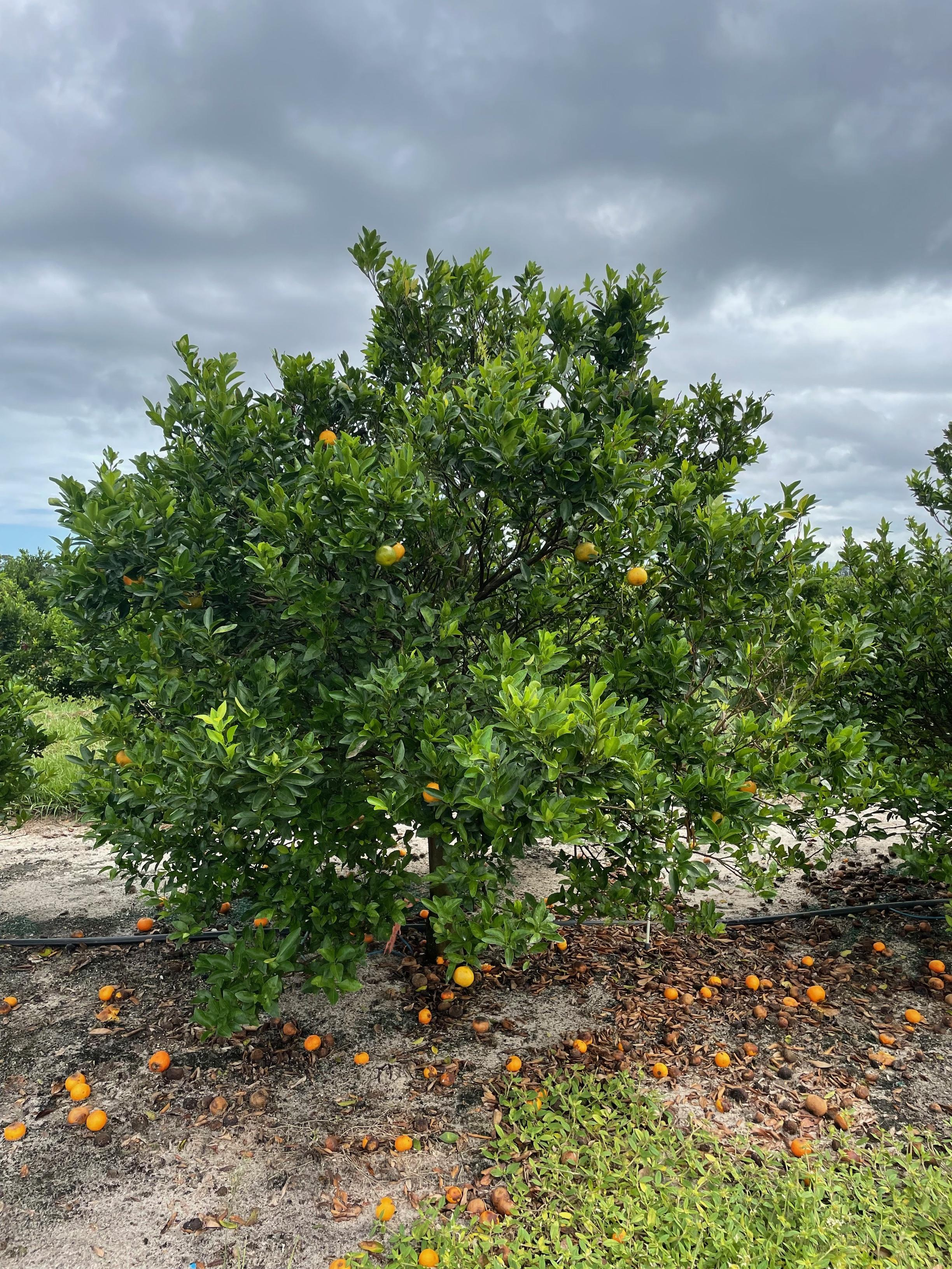fruit_on_ground: (174, 584, 207, 612), (571, 538, 604, 566), (119, 565, 149, 593), (371, 543, 399, 569), (624, 563, 652, 589), (315, 425, 341, 451), (420, 780, 446, 806), (110, 746, 136, 770), (452, 964, 475, 987), (385, 540, 407, 563), (736, 776, 760, 797), (705, 809, 728, 829), (251, 912, 271, 929), (215, 899, 233, 916)
fruit_on_tree: (146, 1049, 172, 1073), (803, 1092, 829, 1115), (493, 1191, 517, 1215), (374, 1196, 396, 1222), (65, 1072, 89, 1095), (3, 1119, 27, 1142), (790, 1135, 813, 1158), (86, 1108, 108, 1131), (417, 1246, 440, 1267), (478, 1208, 502, 1228), (490, 1185, 511, 1206), (66, 1105, 87, 1126), (443, 1184, 465, 1204), (70, 1081, 92, 1101), (94, 1004, 119, 1021), (249, 1091, 270, 1111), (806, 982, 827, 1002), (209, 1093, 229, 1113), (98, 983, 119, 1002), (393, 1133, 414, 1152), (463, 1193, 485, 1211), (325, 1133, 345, 1152), (833, 1110, 853, 1129), (302, 1032, 322, 1051), (325, 1255, 352, 1269), (504, 1053, 523, 1072), (522, 1094, 542, 1112), (560, 1148, 580, 1166), (651, 1060, 669, 1079), (416, 1006, 434, 1025), (661, 1031, 681, 1048), (925, 974, 946, 990), (361, 1134, 380, 1151), (136, 915, 155, 932), (248, 1045, 266, 1062), (752, 1002, 770, 1019), (714, 1050, 731, 1068), (743, 972, 761, 989), (472, 1017, 491, 1033), (927, 957, 946, 973), (904, 1007, 923, 1023), (853, 1082, 870, 1099), (742, 1040, 759, 1057), (2, 993, 19, 1010), (715, 1096, 731, 1114), (436, 1071, 454, 1087), (282, 1020, 300, 1036), (352, 1050, 370, 1066), (698, 983, 715, 999), (663, 984, 680, 1000), (572, 1037, 590, 1052), (322, 1031, 338, 1047), (775, 1013, 791, 1029), (576, 1029, 593, 1044), (782, 995, 798, 1010), (740, 1067, 756, 1082), (759, 977, 776, 991), (533, 1085, 548, 1100), (687, 1051, 702, 1066), (422, 1064, 437, 1079), (917, 919, 933, 933), (679, 991, 695, 1005), (799, 953, 815, 967), (707, 973, 724, 986), (879, 1032, 896, 1045), (438, 989, 455, 1002), (872, 939, 887, 953), (434, 953, 449, 966), (69, 927, 85, 939), (396, 846, 410, 859), (555, 938, 569, 951), (362, 931, 376, 944), (903, 922, 917, 934), (417, 907, 430, 918)
